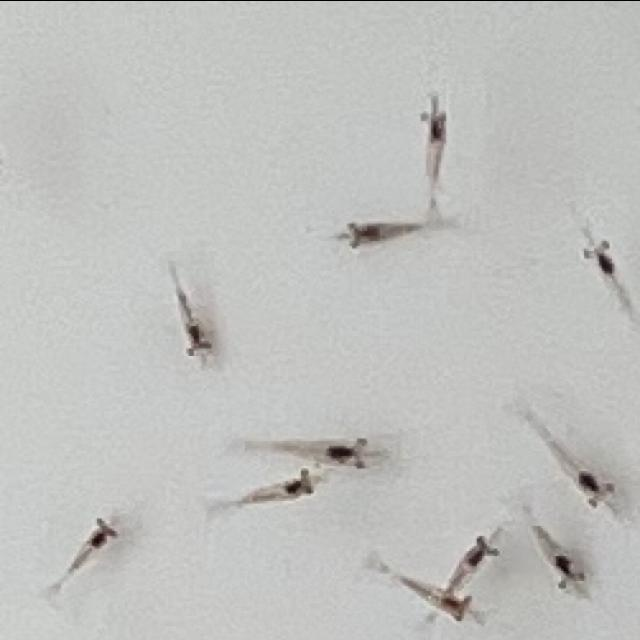shrimp-seed: (569, 467, 618, 512), (575, 230, 619, 280), (414, 94, 456, 144), (324, 430, 370, 472), (436, 586, 478, 630), (548, 549, 590, 592), (462, 527, 504, 569), (282, 462, 318, 506), (179, 318, 215, 358), (85, 514, 122, 552), (346, 213, 382, 251)
